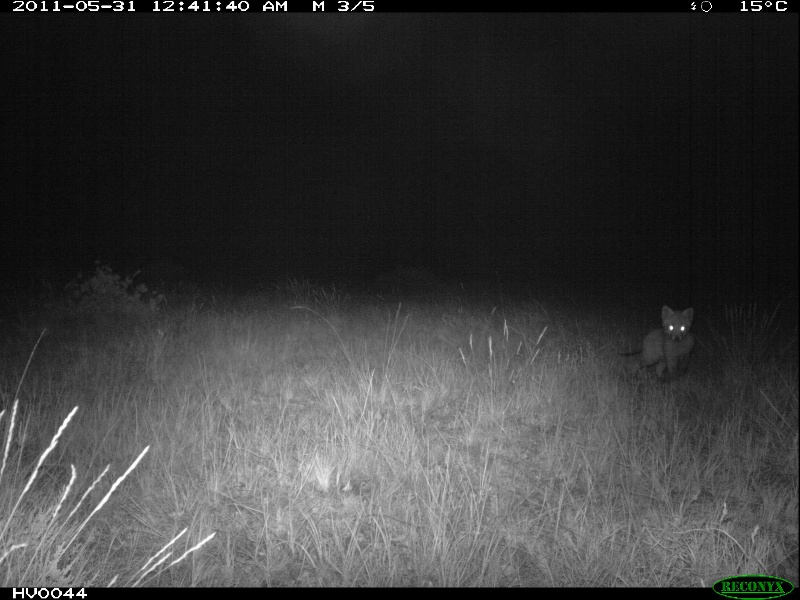fox: (625, 304, 703, 381)
